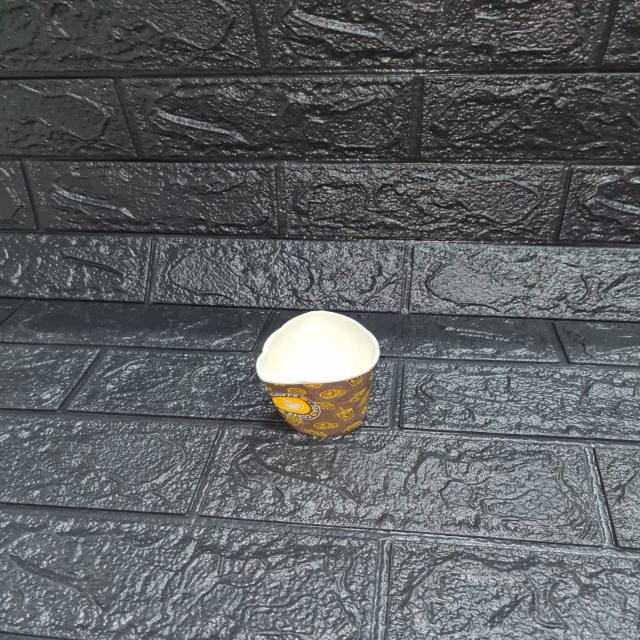cups: (235, 312, 396, 440)
